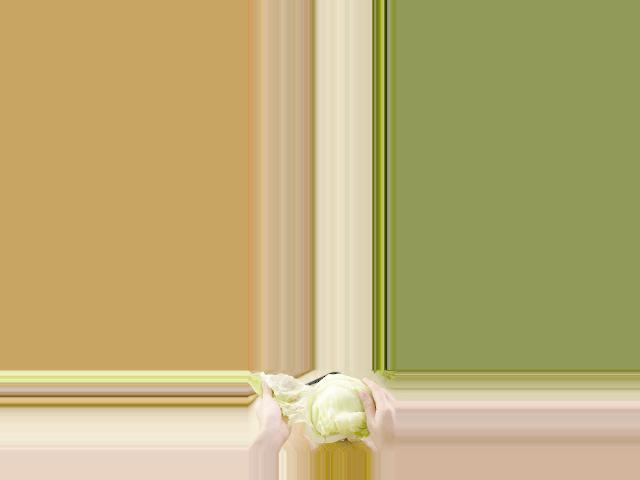lettuce: (289, 371, 375, 447)
